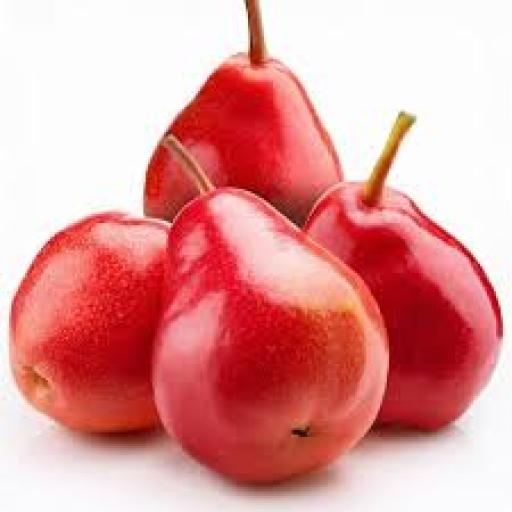Pear: (151, 136, 390, 486), (304, 112, 504, 433), (143, 0, 344, 229), (10, 211, 169, 433)
